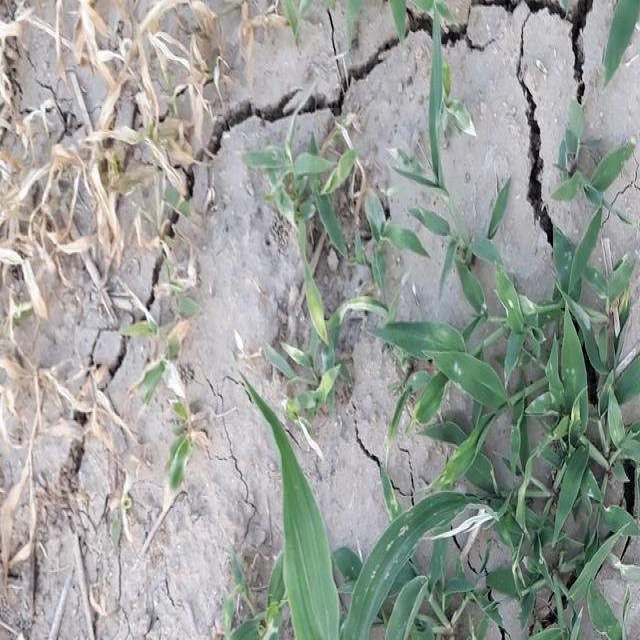weed: (277, 226, 640, 640)
